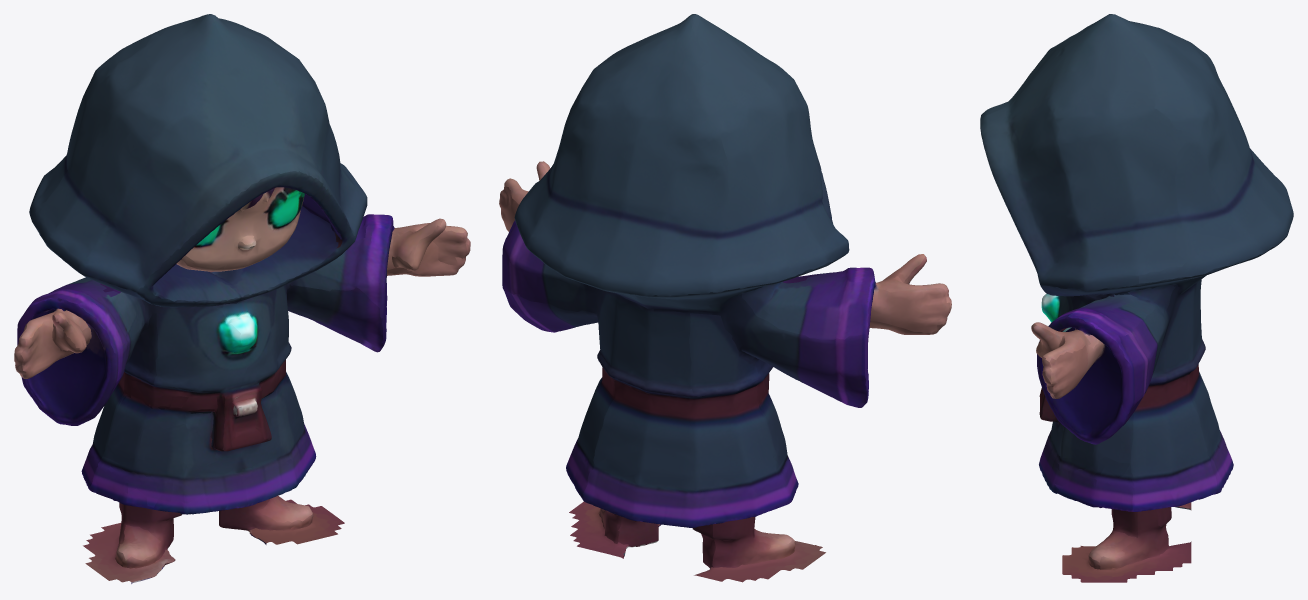
Rendered from oracle-voxel-mesh.glb.
3 renders of one model, left to right at view 1: azimuth 30°, elevation 25°; view 2: azimuth 150°, elevation 25°; view 3: azimuth 270°, elevation 25°, orthographic. The views are drawn at different scales.
Visible parts, largest first — view 1: tmprq8nw0i3.ply; view 2: tmprq8nw0i3.ply; view 3: tmprq8nw0i3.ply.
Boxes of the visible parts, left/top/right/bottom form: tmprq8nw0i3.ply: left=14, top=14, right=470, bottom=583; tmprq8nw0i3.ply: left=499, top=14, right=951, bottom=582; tmprq8nw0i3.ply: left=980, top=14, right=1293, bottom=582.
Bounding box in the file's own units: 0.8895 × 0.9889 × 0.5457.
Materials: 1 (1 with a texture image).
